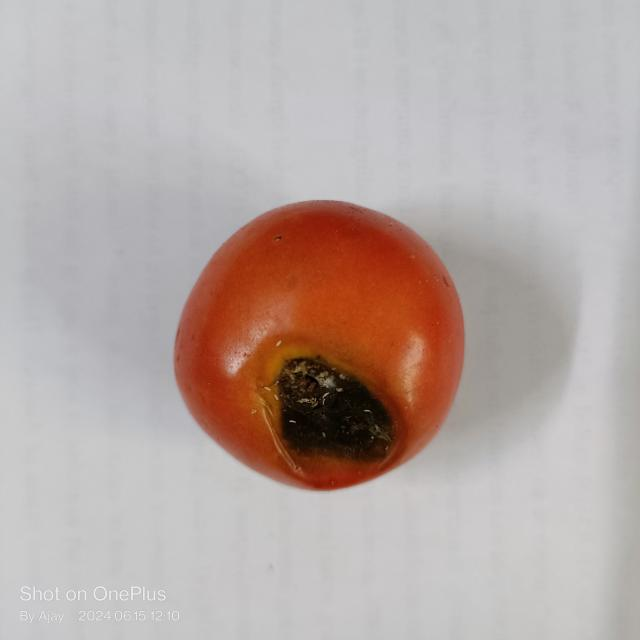Anthrocnose: (262, 359, 398, 473)
